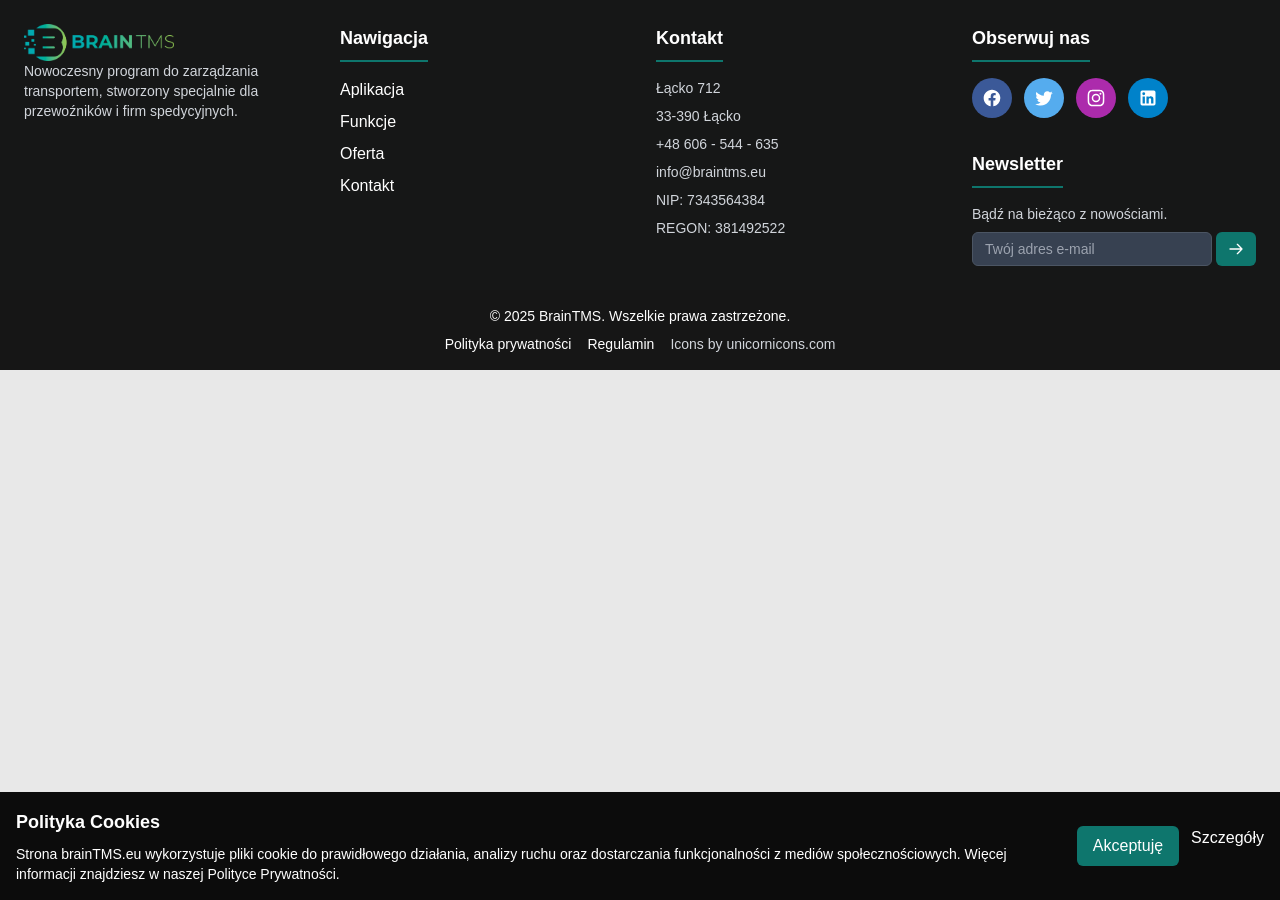
Test: Footer Component › hides cookie notification after accepting cookies
Check: the element with test id "cookie-notification" is shown, box [0,792,1279,899]
What coordinates should you click on to do the following:
click the button with test id "accept-cookies"
I would click on:
 (1128, 846)
Its box is [1077,826,1179,866].
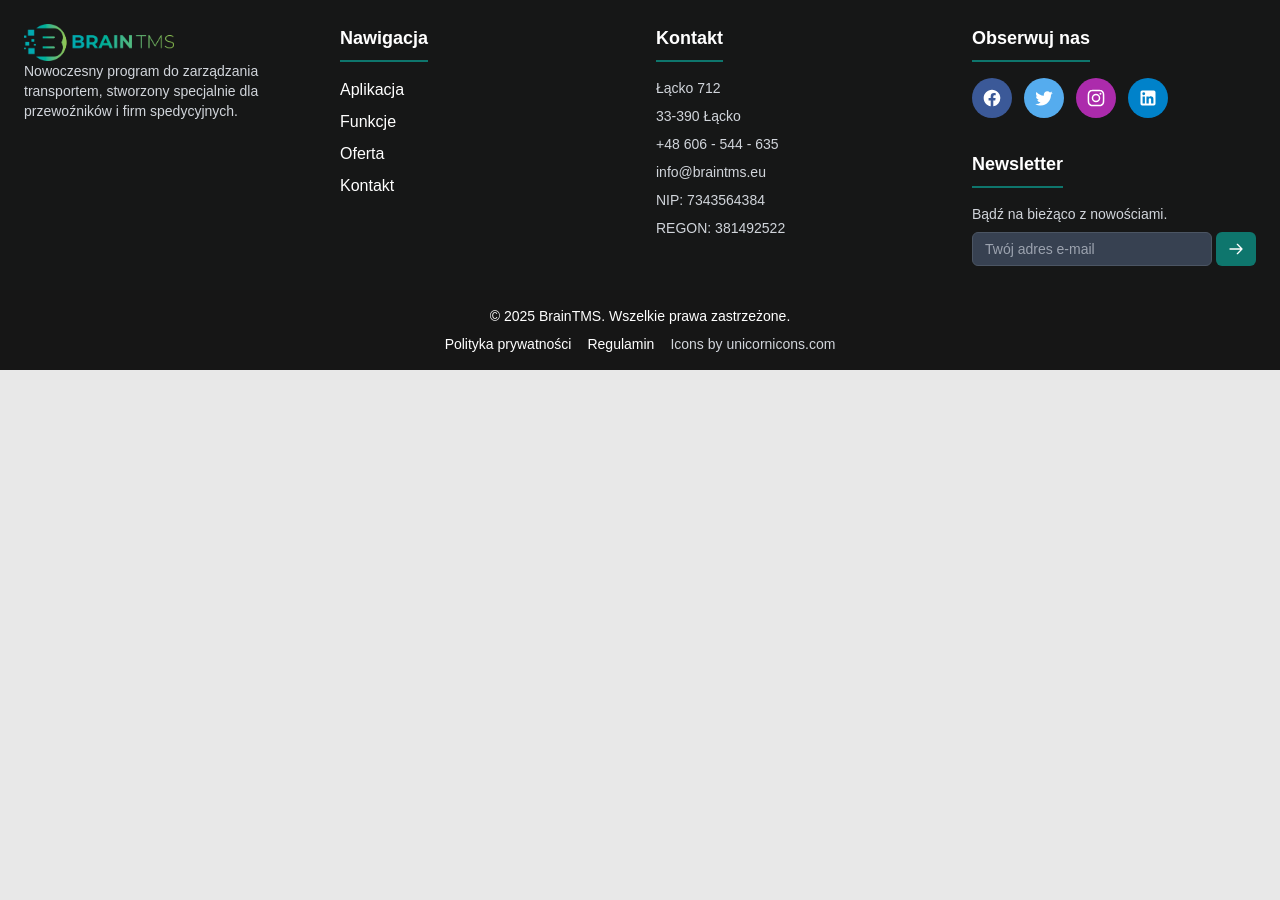
Check: the element with test id "cookie-notification" is gone
